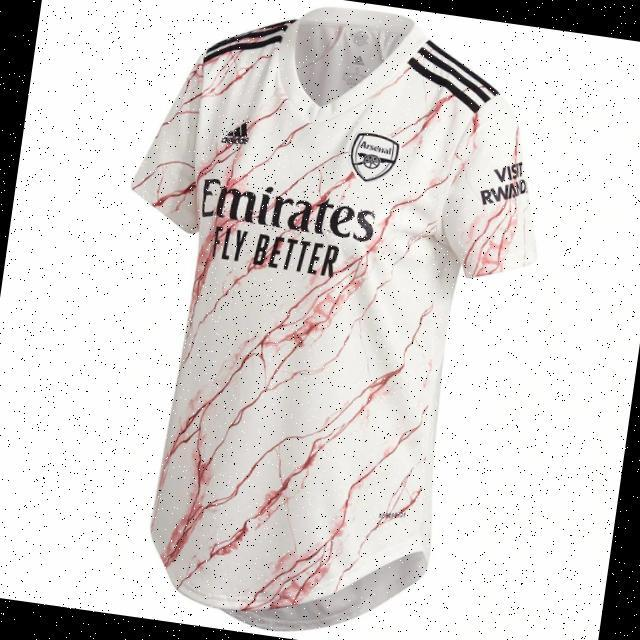Adidas: (220, 118, 252, 148)
Emirates: (198, 174, 380, 244)
